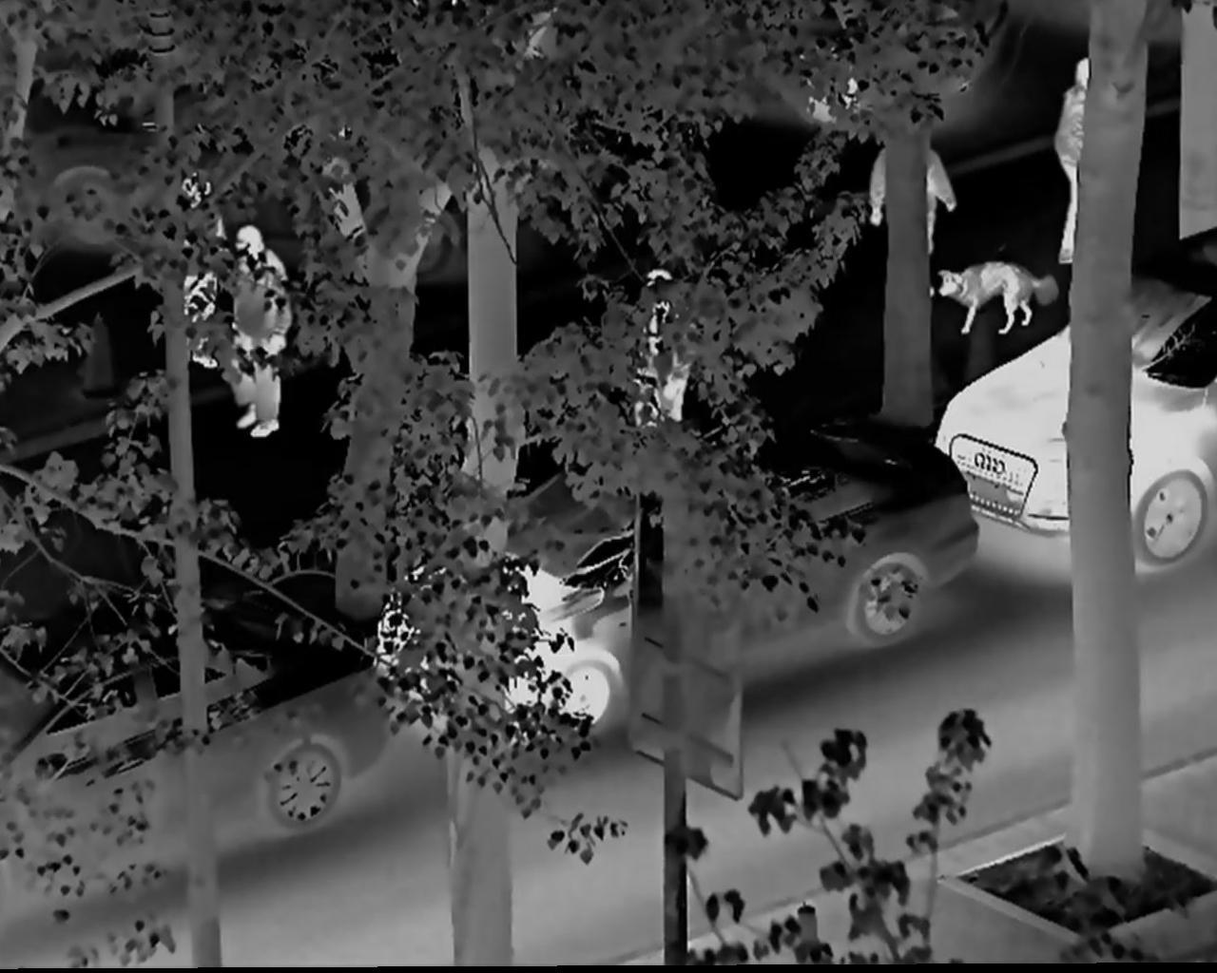person: (223, 219, 300, 443), (156, 172, 222, 372)
